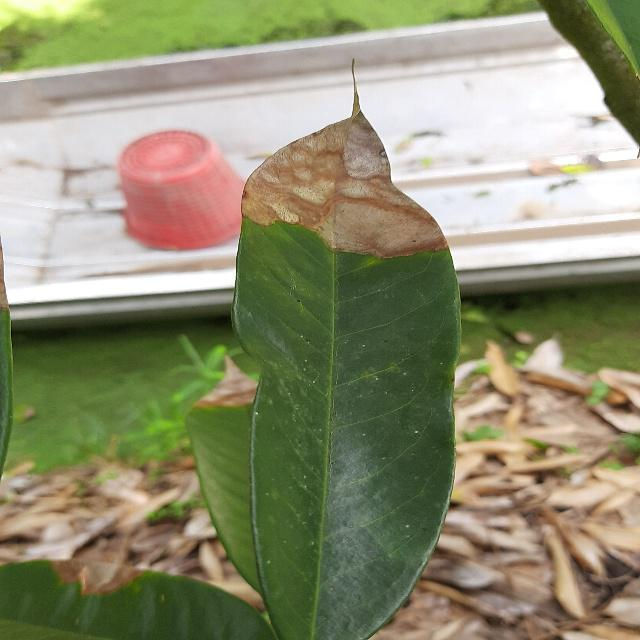Leaf Blight: (221, 95, 468, 639)
